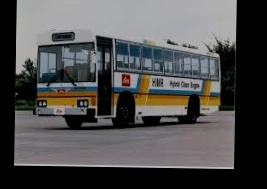bus: (30, 30, 220, 132)
